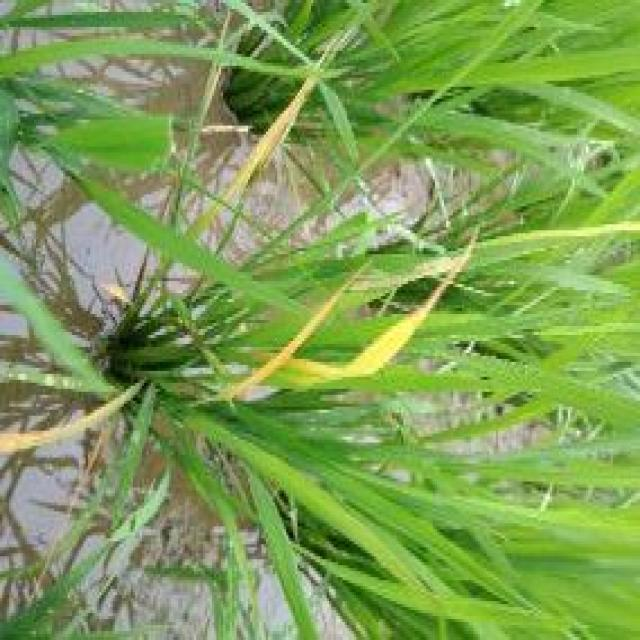Rice Tungro: (354, 312, 444, 385), (0, 418, 131, 461), (245, 87, 308, 172)
